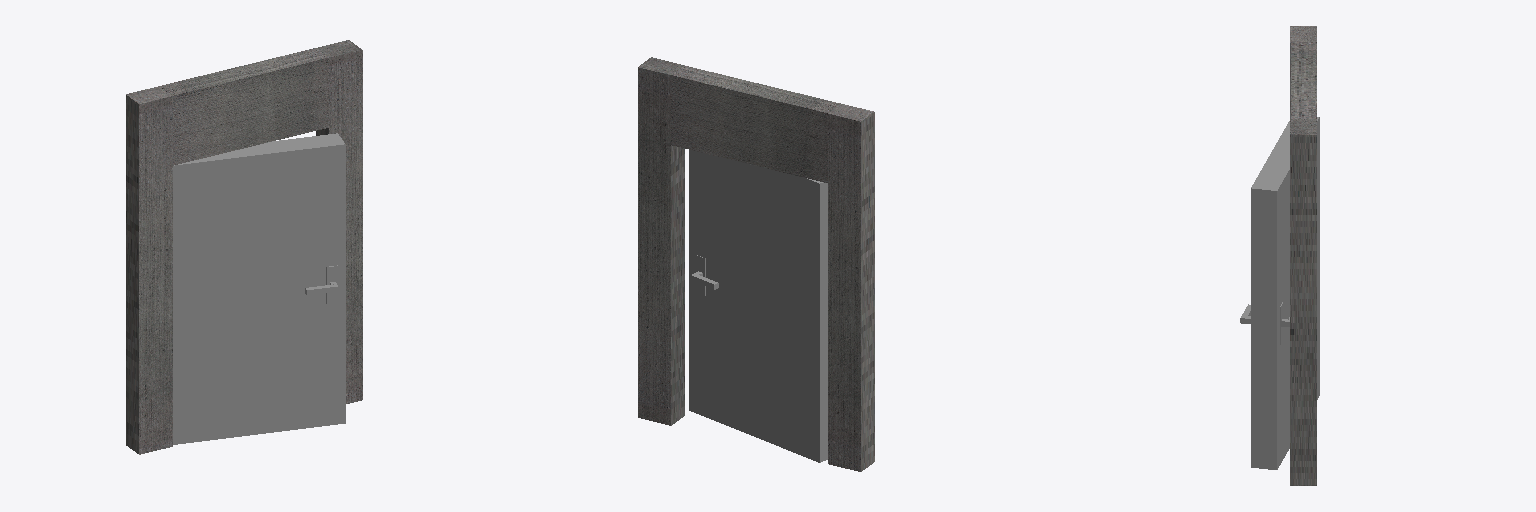
3 renders of one model, left to right at view 1: azimuth 30°, elevation 25°; view 2: azimuth 150°, elevation 25°; view 3: azimuth 270°, elevation 25°, orthographic.
Visible parts, largest first — view 1: Cube.004_Cube.005, Cube.006_Cube.007; view 2: Cube.006_Cube.007, Cube.004_Cube.005; view 3: Cube.004_Cube.005, Cube.006_Cube.007.
Boxes of the visible parts, <box> form: Cube.004_Cube.005: <box>173,133,345,444</box>; Cube.006_Cube.007: <box>126,40,362,454</box>; Cube.006_Cube.007: <box>638,57,874,471</box>; Cube.004_Cube.005: <box>689,150,827,462</box>; Cube.004_Cube.005: <box>1240,117,1319,469</box>; Cube.006_Cube.007: <box>1290,26,1316,485</box>.
Size of the model in its own units: 2 by 3 by 0.6138.
2 materials, 1 textured.